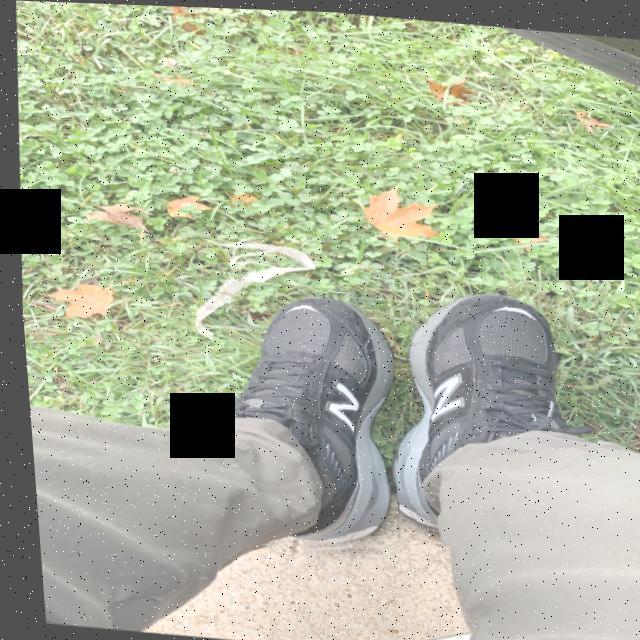shoe: (375, 249, 611, 557), (157, 274, 404, 559)
